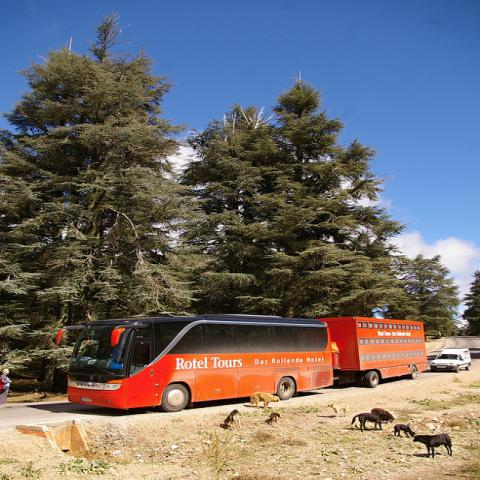bus: (56, 313, 341, 414)
car: (431, 348, 471, 372)
truck: (429, 346, 471, 372)
